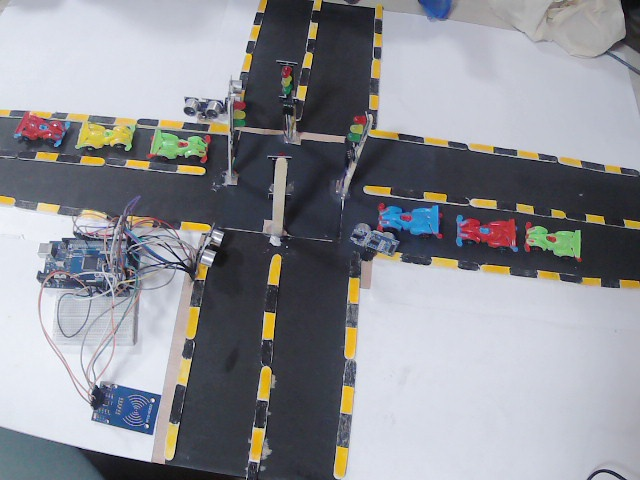car: (380, 202, 465, 243), (520, 218, 587, 270), (448, 213, 522, 256), (150, 122, 202, 169), (79, 119, 143, 157), (17, 111, 71, 156)
traffic_light: (218, 97, 258, 147), (282, 70, 308, 122), (348, 107, 363, 157), (274, 148, 290, 183)
uno_breadboard: (11, 227, 157, 353), (79, 371, 146, 444), (339, 217, 409, 258), (183, 88, 225, 134), (200, 221, 226, 286), (222, 75, 252, 122)
